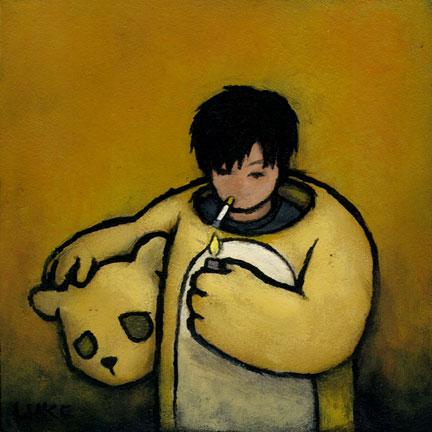person: (32, 81, 382, 431)
